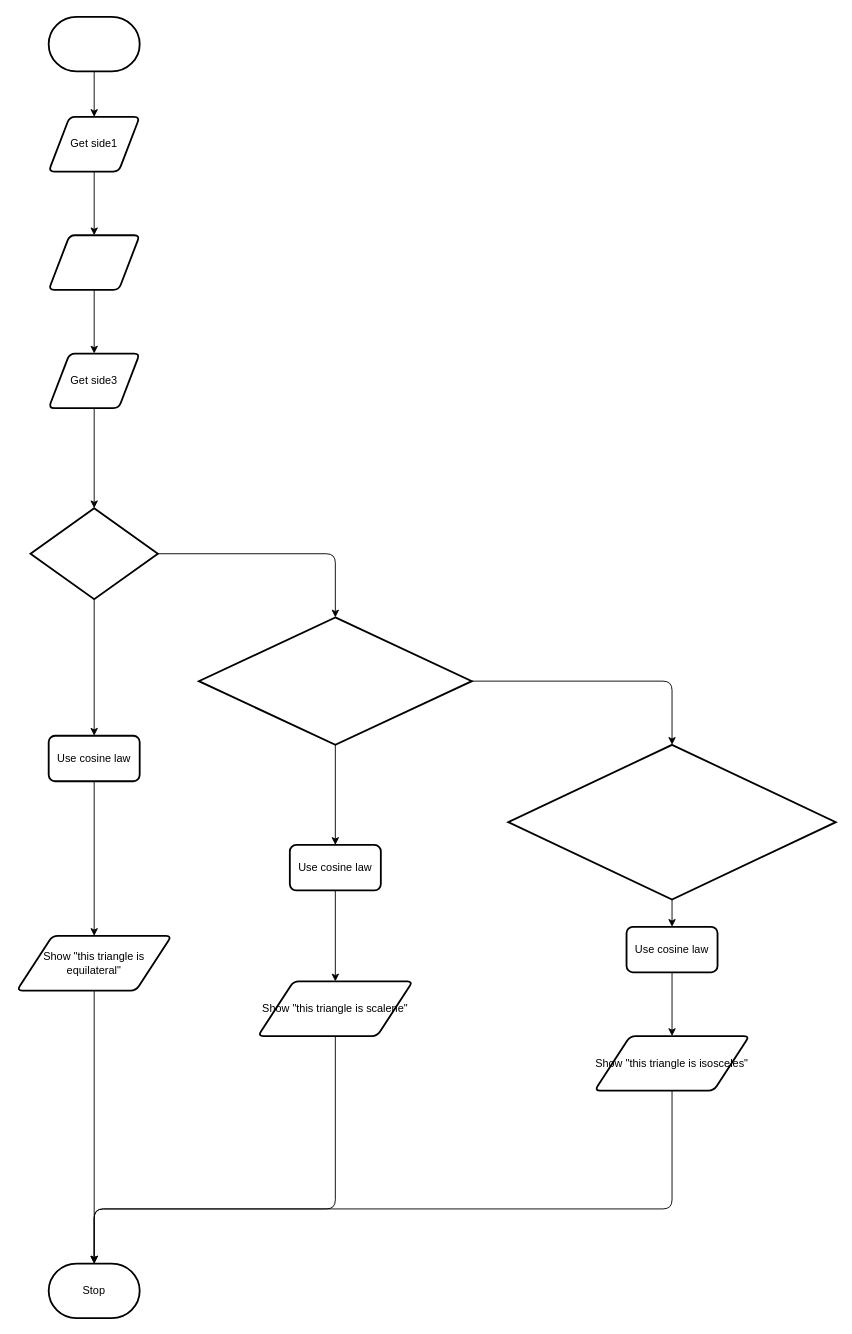
This 852x1334 diagram has some shape labels left out. Each missing label, with the box of its shape:
else If ((side1 != side2 != side3) | | (side1 != side3)): (197, 616, 472, 745)
else if ((side1 = side 2) | | (side1 = side3) | | (side2 = side3): (507, 743, 836, 900)
Get side2: (47, 234, 140, 290)
If (side1 = side2 = side3): (29, 507, 158, 600)
Start: (47, 15, 140, 72)
